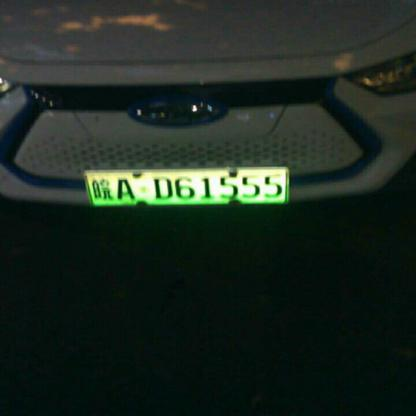lp: (84, 168, 289, 208)
